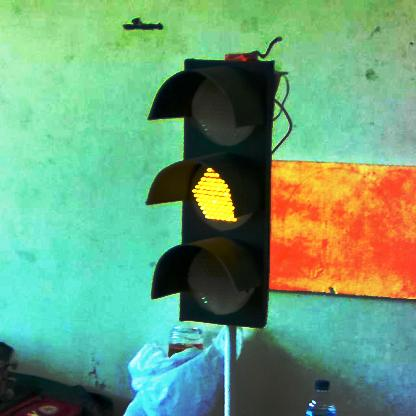Traffic Light -Yellow-: (147, 60, 274, 324)
